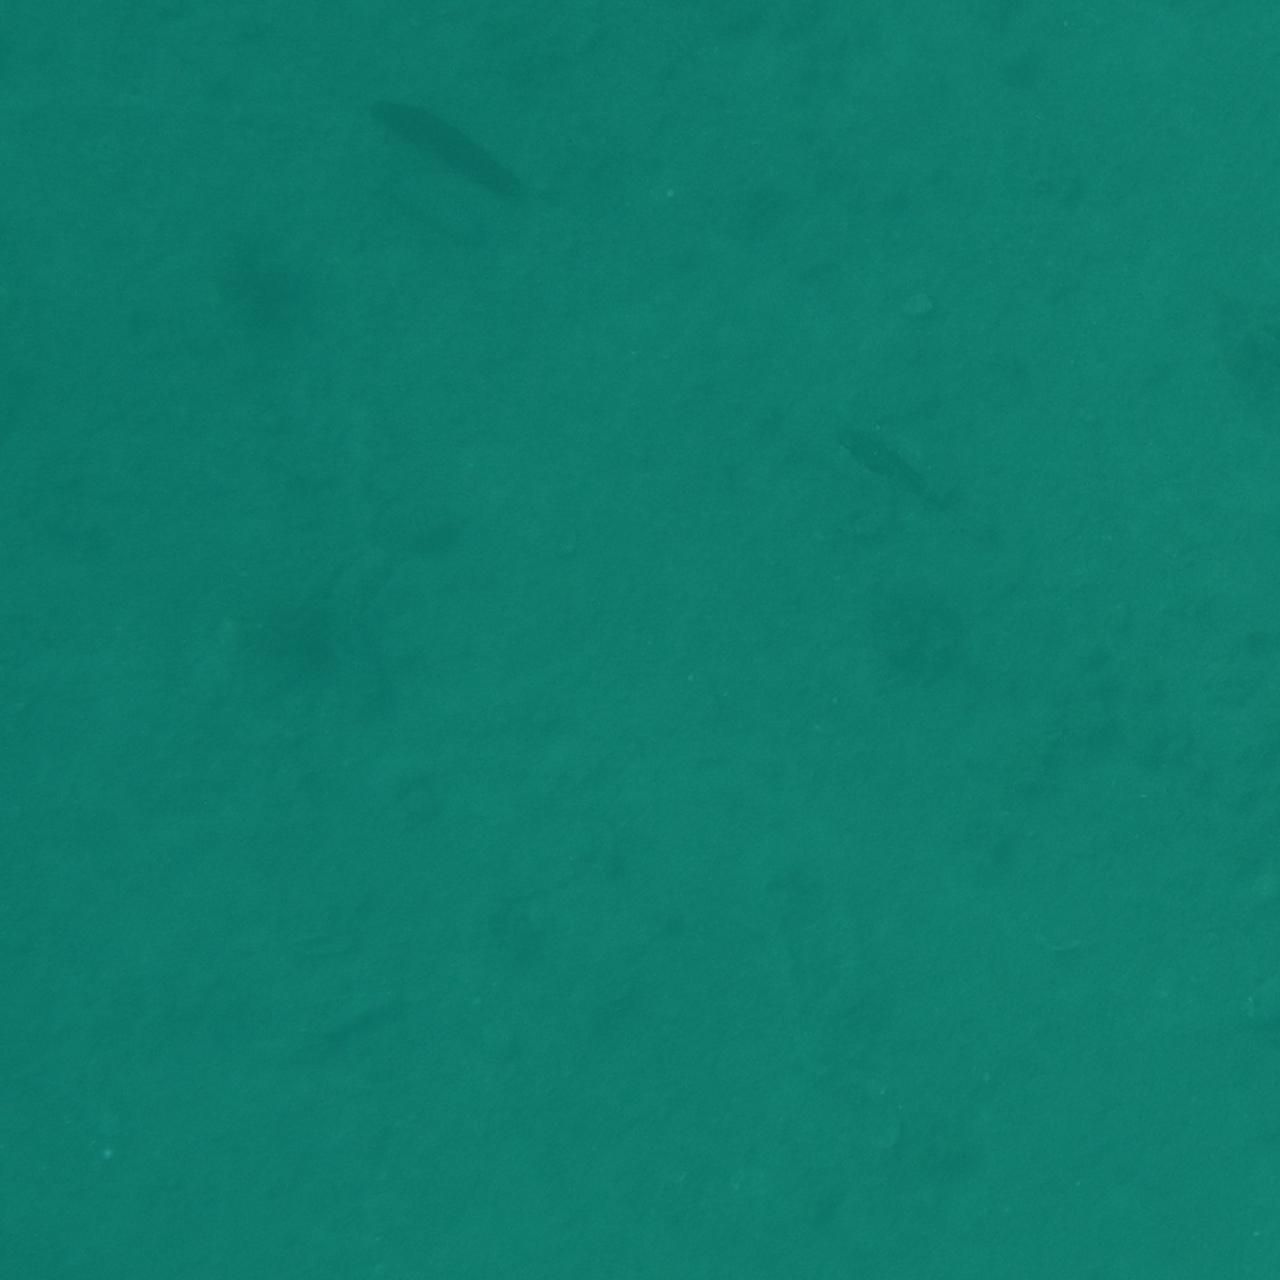Holothuria tubulosa: (334, 79, 540, 200), (399, 1182, 625, 1280), (838, 400, 1017, 512), (0, 687, 96, 840), (0, 1008, 70, 1212), (1217, 598, 1280, 798), (1177, 930, 1280, 1051), (1178, 1182, 1280, 1280), (1129, 1124, 1280, 1184), (0, 0, 212, 42), (1217, 0, 1280, 137), (999, 1192, 1092, 1280), (1207, 0, 1280, 102), (0, 1156, 52, 1280), (0, 0, 109, 56), (0, 1219, 95, 1280), (0, 0, 80, 57)
Rifiuto: (0, 1186, 96, 1280)
